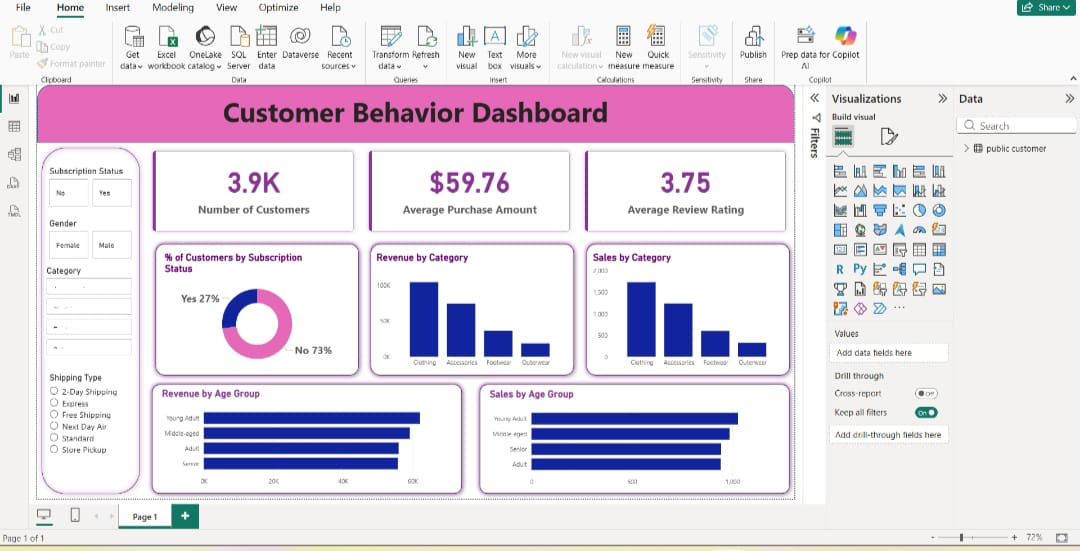

This screenshot's page, from the dashboard's own definition file:
{"tool":"powerbi","page":{"name":"Page 1","canvas":[1500,820],"ordinal":0},"visuals":[{"type":"cardVisual","fields":{"Data":["public customer.Number of Customers","public customer.Average Purchase Amount","public customer.Average Review Rating"]},"box":[212.9,115.3,1286.5,191.6],"z":2000},{"type":"shape","box":[218.3,585.6,631.7,234.2],"z":2500,"group":"g1"},{"type":"shape","box":[0,0,1499.4,115.3],"z":3000},{"type":"textbox","box":[0,12.4,1499.4,102.9],"z":4000},{"type":"shape","box":[225.4,307,420.5,278.6],"z":5000},{"type":"donutChart","title":"% of Customers by Subscription Status","fields":{"Category":["public customer.subscription_status"],"Y":["CountNonNull(public customer.customer_id)"]},"box":[248.4,331.8,376.2,237.8],"z":6000},{"type":"shape","box":[1078.9,307,420.5,278.6],"z":7000},{"type":"shape","box":[652.1,307,420.5,278.6],"z":8000},{"type":"clusteredColumnChart","title":"Revenue by Category","fields":{"Y":["Sum(public customer.purchase_amount)"],"Category":["public customer.category"]},"box":[667.2,331.8,385.1,237.8],"z":9000},{"type":"clusteredColumnChart","title":"Sales by Category","fields":{"Y":["CountNonNull(public customer.customer_id)"],"Category":["public customer.category"]},"box":[1096.6,331.8,385.1,237.8],"z":10000},{"type":"shape","box":[0,115.3,212.9,704.5],"z":11000},{"type":"advancedSlicerVisual","fields":{"Values":["public customer.subscription_status"]},"box":[19.5,146.2,174.1,85],"z":12000},{"type":"advancedSlicerVisual","fields":{"Values":["public customer.gender"]},"box":[20.9,246.5,174.1,85],"z":13000},{"type":"advancedSlicerVisual","fields":{"Values":["public customer.category"]},"box":[16.7,341.2,179.7,228.4],"z":14000},{"type":"listSlicer","fields":{"Values":["public customer.shipping_type"]},"box":[23.7,584.9,154.6,217.3],"z":15000},{"type":"shape","box":[867.7,585.6,631.7,234.2],"z":16000},{"type":"clusteredBarChart","title":"Sales by Age Group","fields":{"Y":["CountNonNull(public customer.customer_id)"],"Category":["public customer.age_group"]},"box":[890.8,601.5,585.6,204.1],"z":17000},{"type":"clusteredBarChart","title":"Revenue by Age Group","fields":{"Y":["Sum(public customer.purchase_amount)"],"Category":["public customer.age_group"]},"box":[241.4,601.6,585.6,204.1],"z":17500,"group":"g1"},{"type":"group","id":"g1","title":"Group 1","box":[218.3,585.6,631.7,234.2],"z":17501}]}

Visuals, with their boxes on the page's 1500x820 design canvas (x1, y1, x2, y2). These are canvas units, not pixel positions in the 1080x551 screenshot, which may show the page scaled, cropped or inside an application window:
cardVisual - public customer.Number of Customers x public customer.Average Purchase Amount: <region>213, 115, 1499, 307</region>
shape: <region>218, 586, 850, 820</region>
shape: <region>0, 0, 1499, 115</region>
textbox: <region>0, 12, 1499, 115</region>
shape: <region>225, 307, 646, 586</region>
"% of Customers by Subscription Status" donutChart: <region>248, 332, 625, 570</region>
shape: <region>1079, 307, 1499, 586</region>
shape: <region>652, 307, 1073, 586</region>
"Revenue by Category" clusteredColumnChart: <region>667, 332, 1052, 570</region>
"Sales by Category" clusteredColumnChart: <region>1097, 332, 1482, 570</region>
shape: <region>0, 115, 213, 820</region>
advancedSlicerVisual - public customer.subscription_status: <region>20, 146, 194, 231</region>
advancedSlicerVisual - public customer.gender: <region>21, 246, 195, 332</region>
advancedSlicerVisual - public customer.category: <region>17, 341, 196, 570</region>
listSlicer - public customer.shipping_type: <region>24, 585, 178, 802</region>
shape: <region>868, 586, 1499, 820</region>
"Sales by Age Group" clusteredBarChart: <region>891, 602, 1476, 806</region>
"Revenue by Age Group" clusteredBarChart: <region>241, 602, 827, 806</region>
"Group 1" group: <region>218, 586, 850, 820</region>
